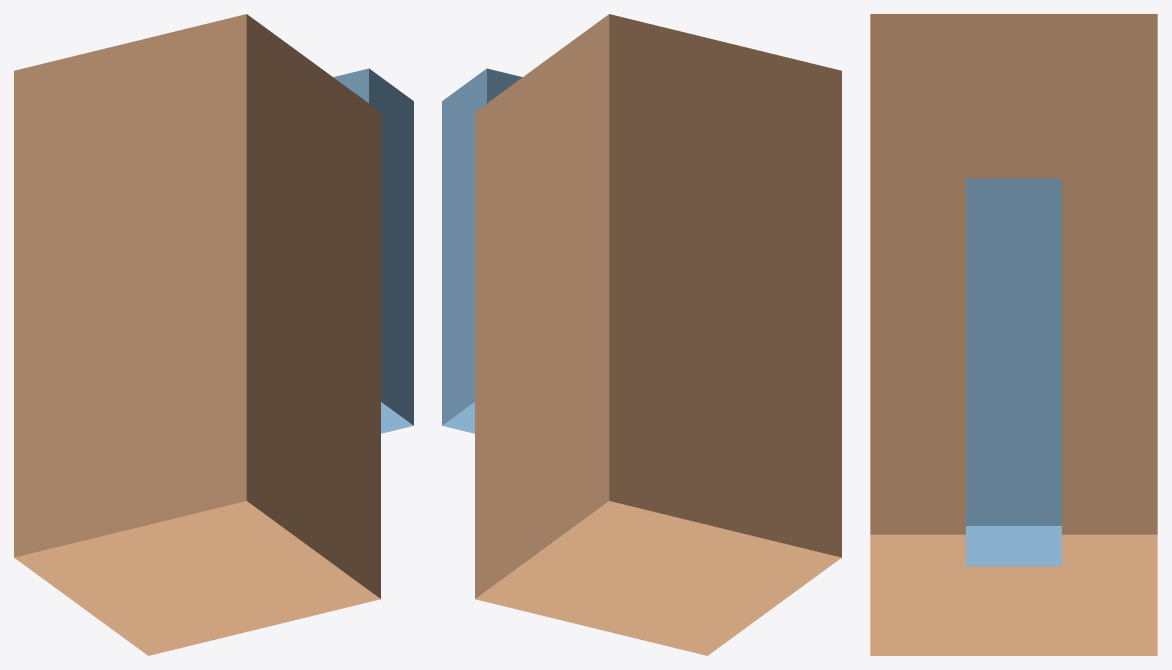
Rendered from courier.glb.
3 views of the same model, side by side, from view 1: azimuth 30°, elevation 25°; view 2: azimuth 150°, elevation 25°; view 3: azimuth 270°, elevation 25° (orthographic). The views are drawn at different scales.
Parts seen in each view (by area): view 1: Body, Arm; view 2: Body, Arm; view 3: Body, Arm.
Boxes of the visible parts, left/top/right/bottom form: Body: left=14, top=14, right=380, bottom=655; Arm: left=333, top=68, right=413, bottom=433; Body: left=475, top=14, right=841, bottom=655; Arm: left=442, top=68, right=522, bottom=433; Body: left=870, top=14, right=1157, bottom=655; Arm: left=966, top=178, right=1061, bottom=566.
Bounding box in the file's own units: 0.4 × 0.6 × 0.3.
